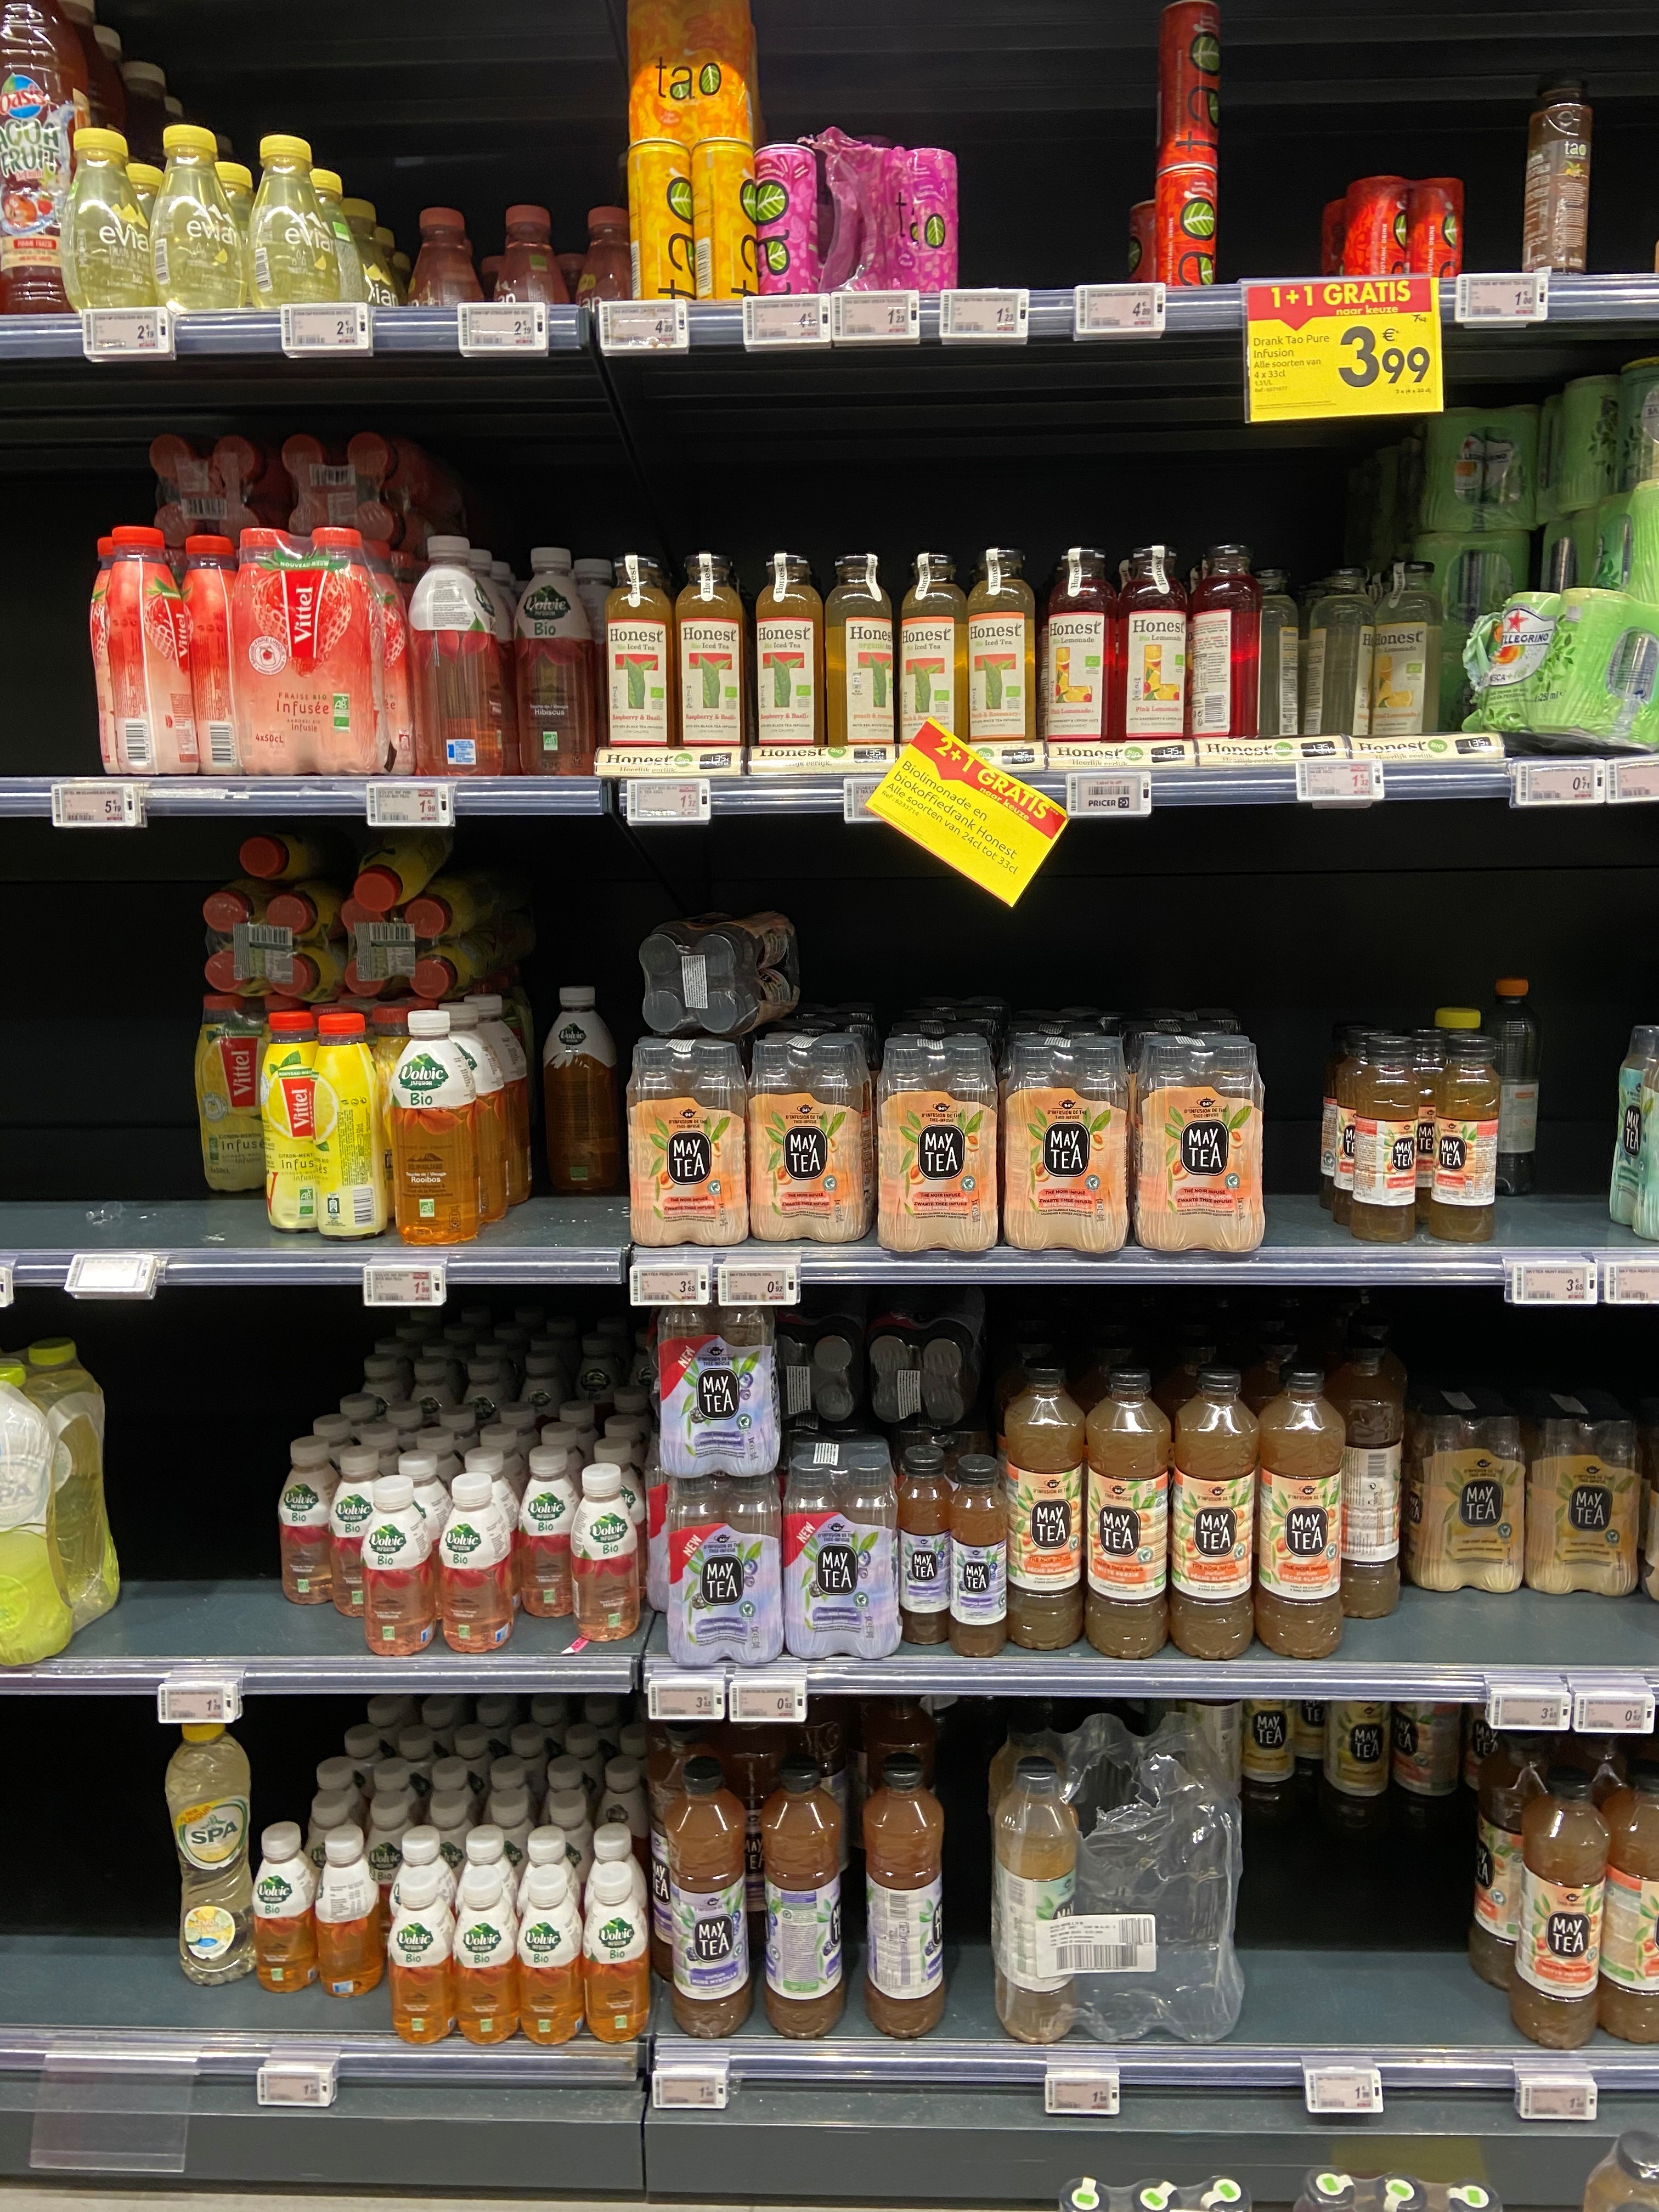ChaudfontaineSensation: (1480, 977, 1546, 1198)
EvianFruits&PlantsCitroen: (146, 125, 251, 322), (240, 134, 342, 319), (58, 127, 153, 315)
EvianFruits&PlantsDruifFramboos: (491, 204, 570, 326), (404, 206, 486, 322), (577, 204, 631, 308)
HonestOriginalLemonade: (1305, 566, 1375, 747), (1375, 563, 1439, 742), (1253, 568, 1300, 747)
HonestPeachRosemary: (967, 547, 1035, 747), (901, 554, 967, 759)
HonestPinkLemonade: (1188, 543, 1260, 747), (1117, 545, 1187, 749), (1049, 549, 1115, 751)
HonestRaspberryBasil: (674, 552, 746, 758), (755, 552, 824, 761), (605, 554, 674, 761), (824, 554, 892, 761)
MayTeaCitron1L: (1319, 1676, 1394, 1844), (1241, 1672, 1298, 1822)
MayTeaCitron4x33cl: (1405, 1390, 1525, 1594), (1525, 1392, 1640, 1597)
MayTeaMenthe1L: (990, 1756, 1080, 2048)
MayTeaMureMyrtille1L: (664, 1757, 755, 2038), (760, 1754, 845, 2038), (864, 1752, 945, 2038)
MayTeaMureMyrtille33cl: (894, 1446, 953, 1646), (950, 1454, 1007, 1658)
MayTeaMureMyrtille4x33cl: (781, 1433, 897, 1660), (662, 1465, 782, 1669), (660, 1285, 781, 1479)
MayTeaPecheBlanche1L: (1513, 1764, 1610, 2047), (1256, 1359, 1347, 1660), (1169, 1362, 1260, 1660), (1084, 1362, 1171, 1660), (1006, 1357, 1086, 1649), (1328, 1339, 1405, 1620), (1596, 1761, 1659, 2045)
MayTeaPecheBlanche33cl: (1425, 1033, 1502, 1242), (1349, 1035, 1420, 1242)
MayTeaPecheBlanche4x33cl: (1133, 1033, 1265, 1256), (1000, 1035, 1129, 1252), (877, 1035, 999, 1252), (749, 1031, 875, 1242), (627, 1036, 748, 1247), (638, 916, 800, 1036)
OasisAquaFruit: (0, 0, 91, 333)
SanPellegrino6x25cl: (1493, 589, 1659, 758), (1403, 402, 1539, 536)
SpaLemonCucumber: (166, 1707, 251, 1987)
TaoBlackcurrant: (753, 143, 819, 305)
TaoGinger250ml: (627, 139, 697, 317), (692, 138, 756, 315)
TaoGinger4x250ml: (627, 0, 756, 148)
TaoKombucha250ml: (1155, 0, 1225, 167), (1154, 164, 1220, 308)
TaoKombucha4x250ml: (1319, 172, 1464, 305)
TaoPureInfusion: (1520, 70, 1593, 273)
VittelAardbei4x50cl: (230, 528, 415, 780)
VittelAardbei50cl: (101, 526, 199, 777), (181, 533, 239, 773)
VittelCitroenMunt4x50cl: (342, 873, 532, 1003), (200, 880, 345, 1003)
VittelCitroenMunt50cl: (312, 1014, 387, 1240), (261, 1012, 322, 1235), (352, 829, 455, 913), (240, 822, 354, 880)
VolvicHibiscusTea37cl: (361, 1475, 437, 1656), (439, 1472, 511, 1653), (572, 1461, 638, 1641), (518, 1444, 580, 1618), (279, 1437, 340, 1606)
VolvicHibiscusTea75cl: (408, 533, 497, 782), (512, 545, 591, 779)
VolvicRooibosTea37cl: (518, 1862, 586, 2045), (389, 1865, 457, 2045), (584, 1858, 648, 2043), (453, 1865, 519, 2045), (315, 1825, 383, 2000), (251, 1820, 319, 1994)
VolvicRooibosTea75cl: (389, 1010, 481, 1245), (538, 984, 619, 1193)
